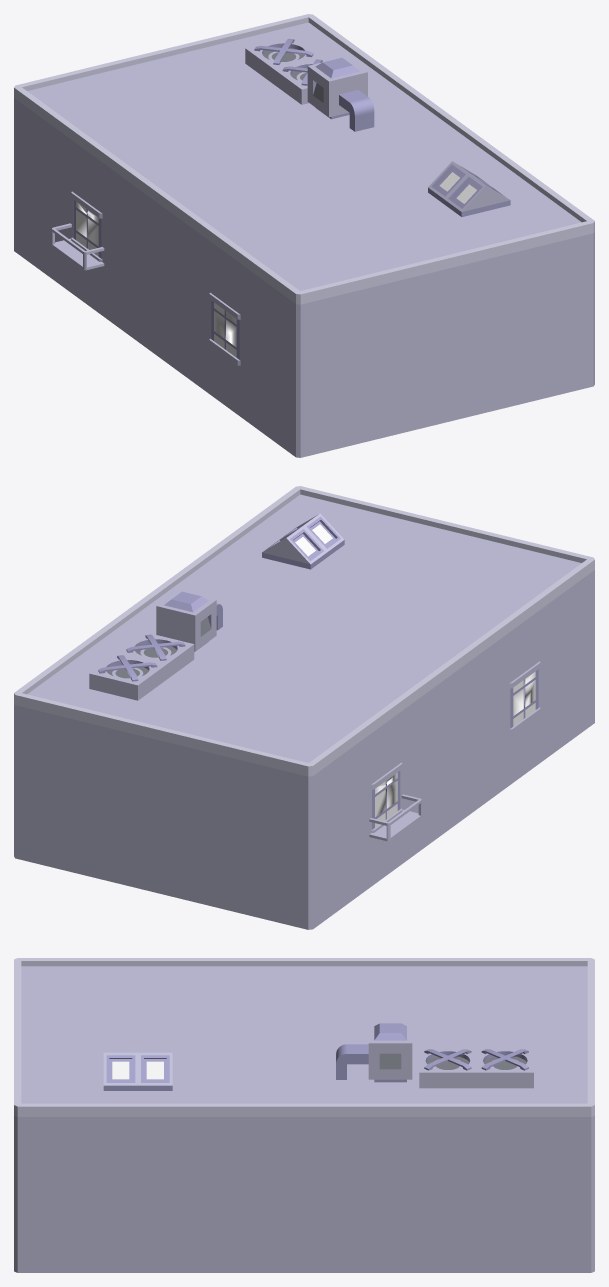
File: RoofsVar1.fbx
3 renders of one model, top to bottom at view 1: azimuth 30°, elevation 25°; view 2: azimuth 150°, elevation 25°; view 3: azimuth 270°, elevation 25°, orthographic.
Parts seen in each view (by area): view 1: Roofs2.001; view 2: Roofs2.001; view 3: Roofs2.001.
Part boxes in pixels (box(x1,y1,x2,y2)): Roofs2.001: box(14, 14, 594, 457); Roofs2.001: box(14, 486, 594, 929); Roofs2.001: box(14, 958, 594, 1272).
Size of the model in its own units: 653 by 400 by 1013.
